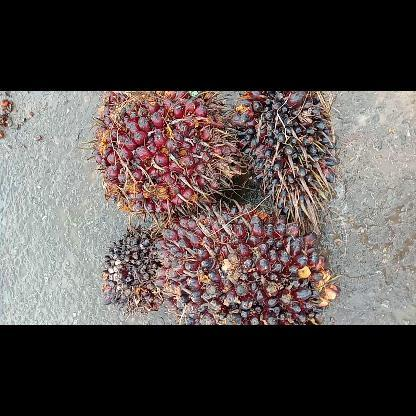Kurang masak: (154, 204, 338, 324)
TBS abnormal: (233, 91, 336, 223), (101, 225, 162, 313)
TBS masak: (96, 91, 238, 213)
